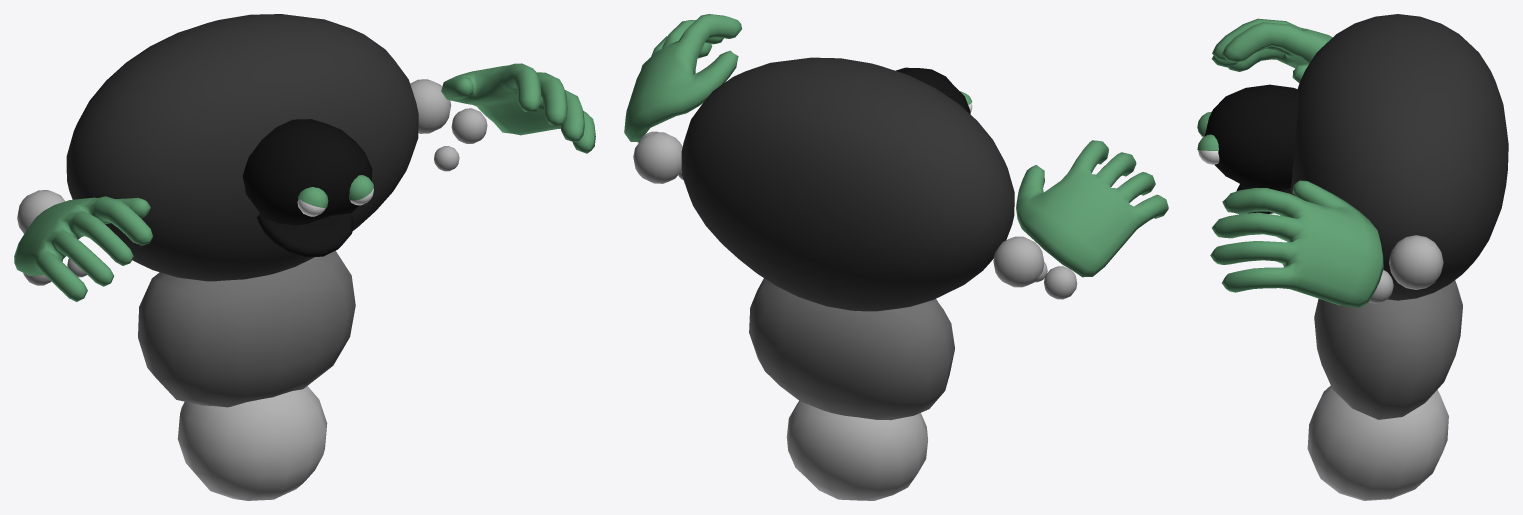
Rendered from monster_2ver.fbx.
3 views of the same model, side by side, from view 1: azimuth 30°, elevation 25°; view 2: azimuth 150°, elevation 25°; view 3: azimuth 270°, elevation 25° (orthographic). The views are drawn at different scales.
Visible parts, largest first — view 1: monster_2ver; view 2: monster_2ver; view 3: monster_2ver.
Part boxes in pixels (bbox=[...]): monster_2ver: bbox=[14, 14, 595, 500]; monster_2ver: bbox=[624, 14, 1168, 500]; monster_2ver: bbox=[1197, 14, 1508, 500].
Size of the model in its own units: 11.86 by 9.5 by 5.94.
